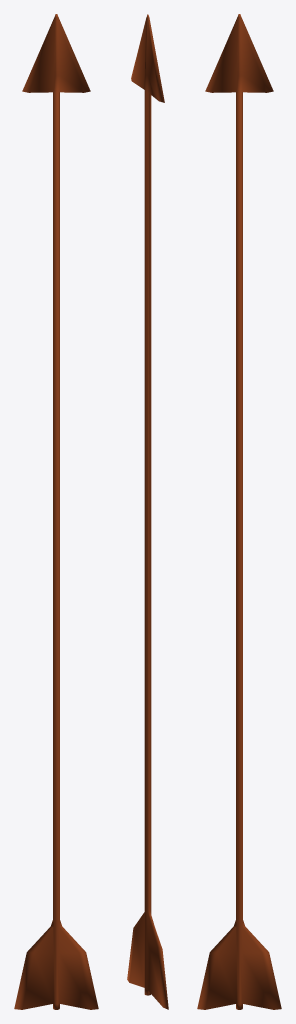
File: MagicArrow.fbx
The picture shows the model from 3 angles, left to right: view 1: azimuth 90°, elevation 25°; view 2: azimuth 210°, elevation 25°; view 3: azimuth 270°, elevation 25°; orthographic projection.
Visible parts, largest first — view 1: ArrowShaft.001; view 2: ArrowShaft.001; view 3: ArrowShaft.001.
Boxes of the visible parts, <box> form: ArrowShaft.001: <box>14,14,98,1009</box>; ArrowShaft.001: <box>127,14,168,1009</box>; ArrowShaft.001: <box>197,14,281,1009</box>.
Size of the model in its own units: 0.4208 by 68.87 by 5.31.
